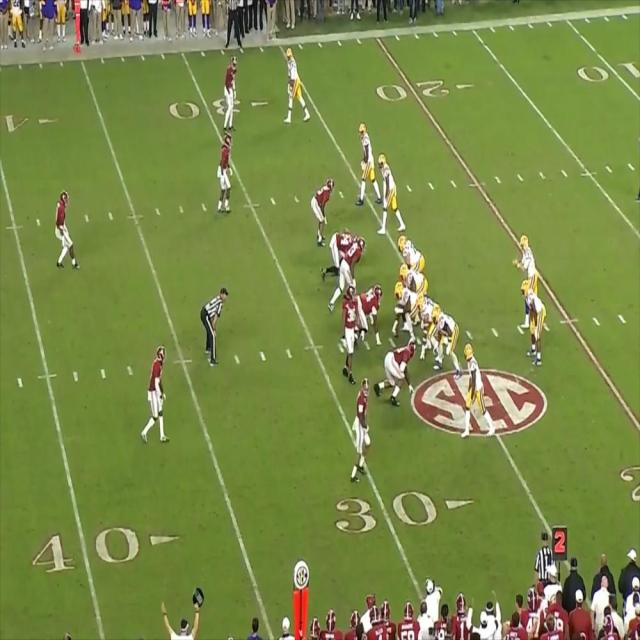center: (393, 282, 418, 332)
db: (148, 348, 165, 444), (355, 382, 369, 482), (56, 191, 72, 271), (221, 133, 234, 213), (226, 54, 240, 125)
lb: (333, 236, 363, 312), (311, 177, 334, 243), (344, 299, 358, 374)
qb: (518, 236, 538, 324)
skill: (465, 342, 490, 430), (526, 282, 547, 366), (284, 47, 306, 119), (380, 154, 400, 232), (358, 123, 376, 200)
